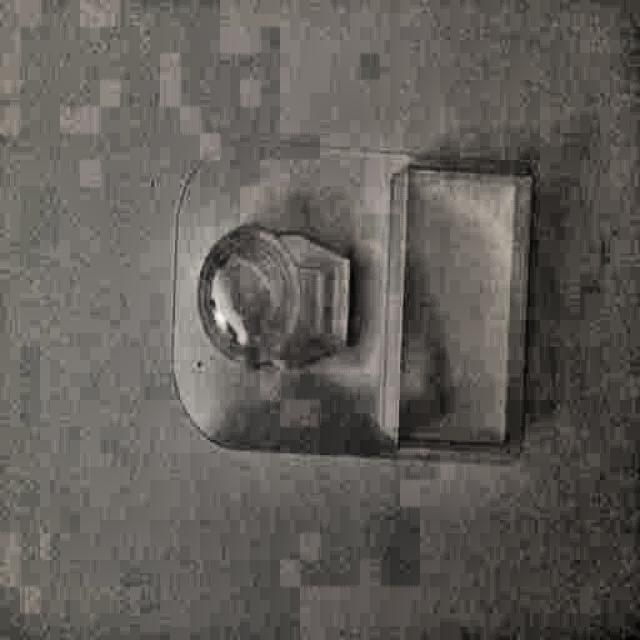plastic: (165, 152, 538, 478)
